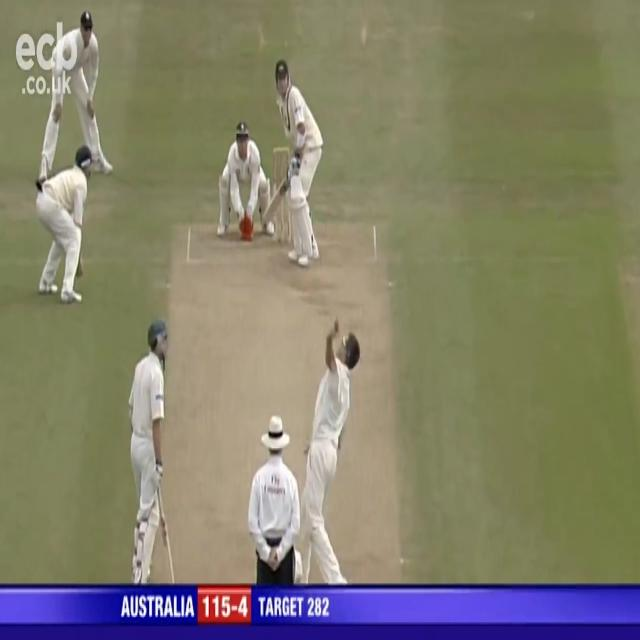ball: (334, 319, 340, 334)
